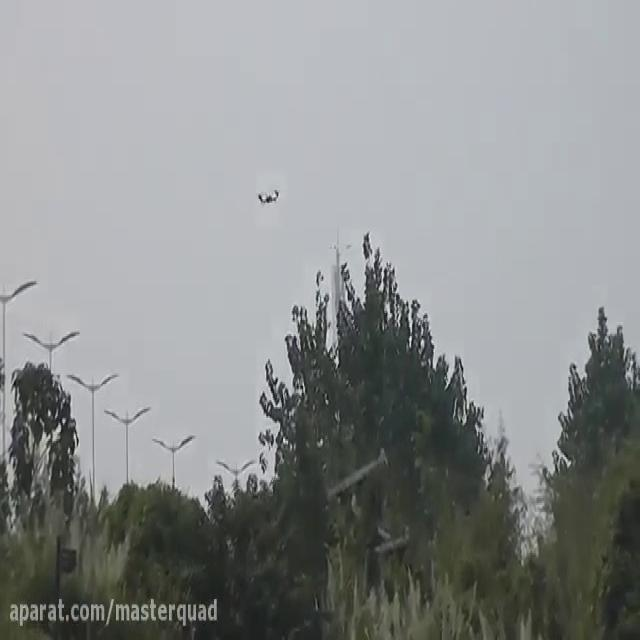drone: (254, 180, 282, 210)
